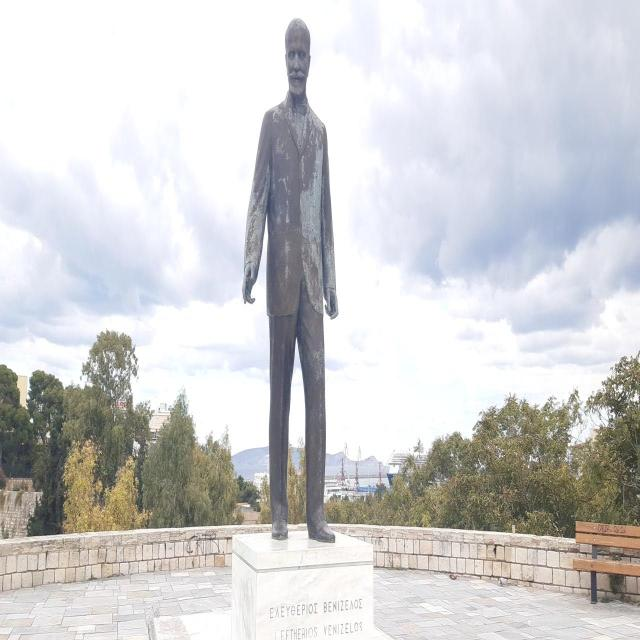Venizelos: (247, 18, 340, 546)
